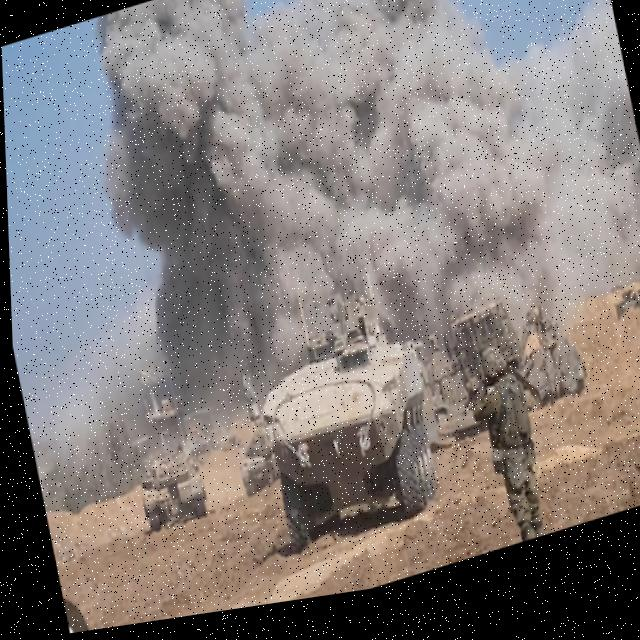MIL_APC: (219, 308, 460, 579)
